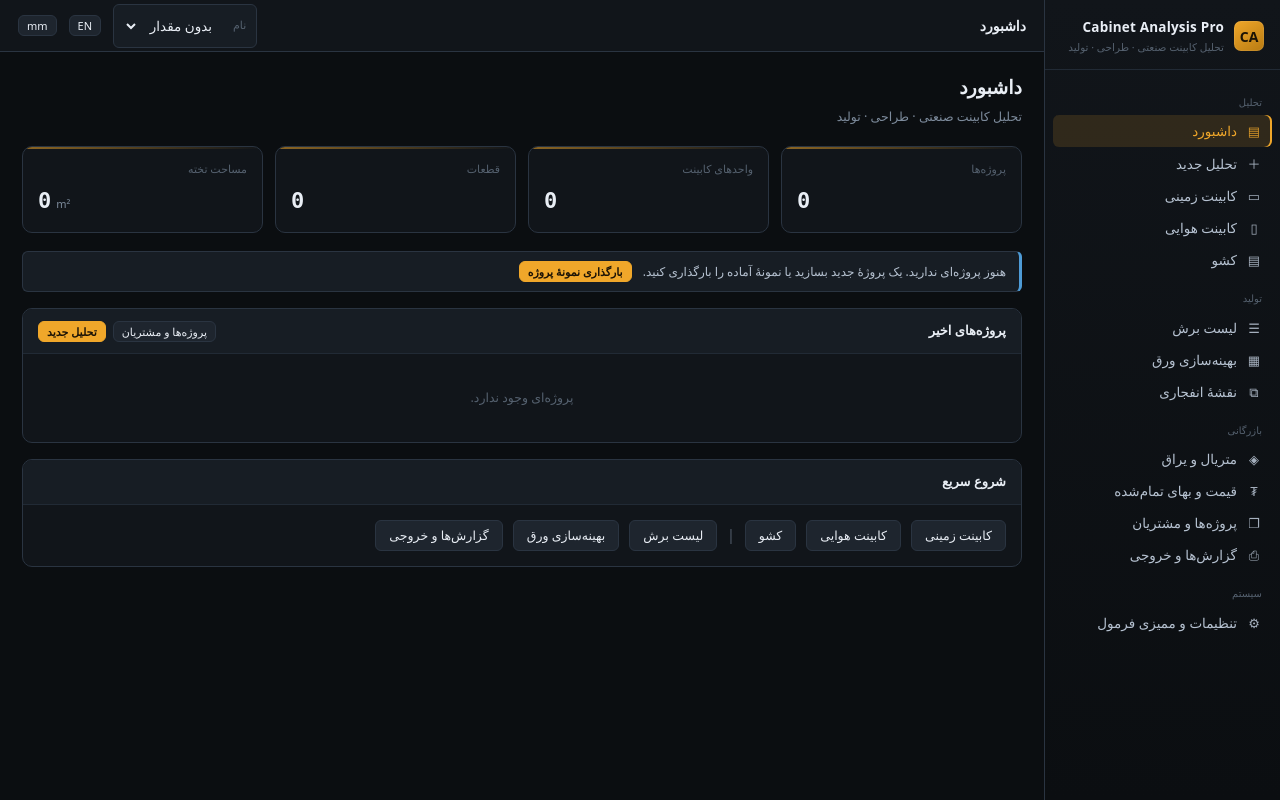
it: settings & formula audit › shows the legacy formulas with a verified badge
What coordinates should you click on to do the following:
click the button "⚙ تنظیمات و ممیزی فرمول"
I would click on:
 (1162, 623)
Its box is [1053,607,1272,639].
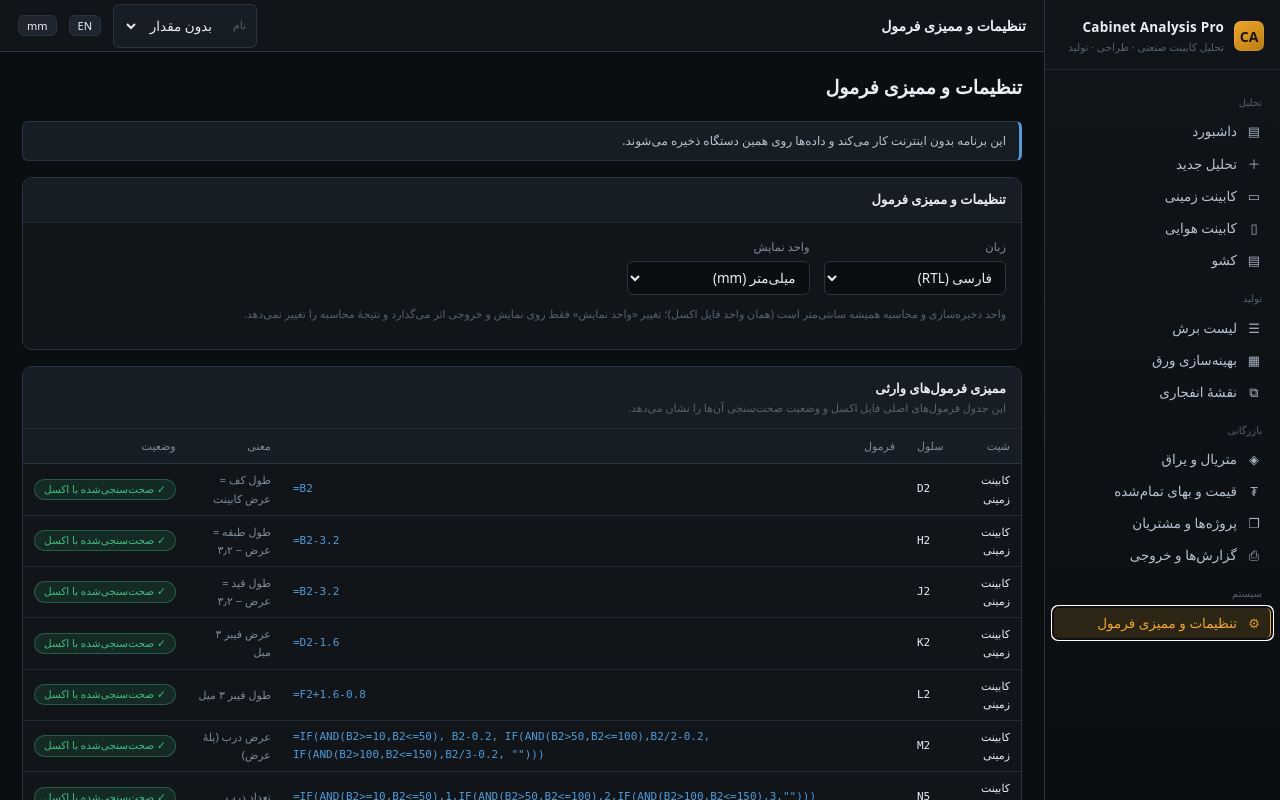
Expected: the text "=B2-3.2" next to "H2" is shown, [293,534,339,547]
Expected: the text "✓ صحت‌سنجی‌شده با اکسل" next to "طول کف = عرض کابینت" is shown, [44,482,154,496]
